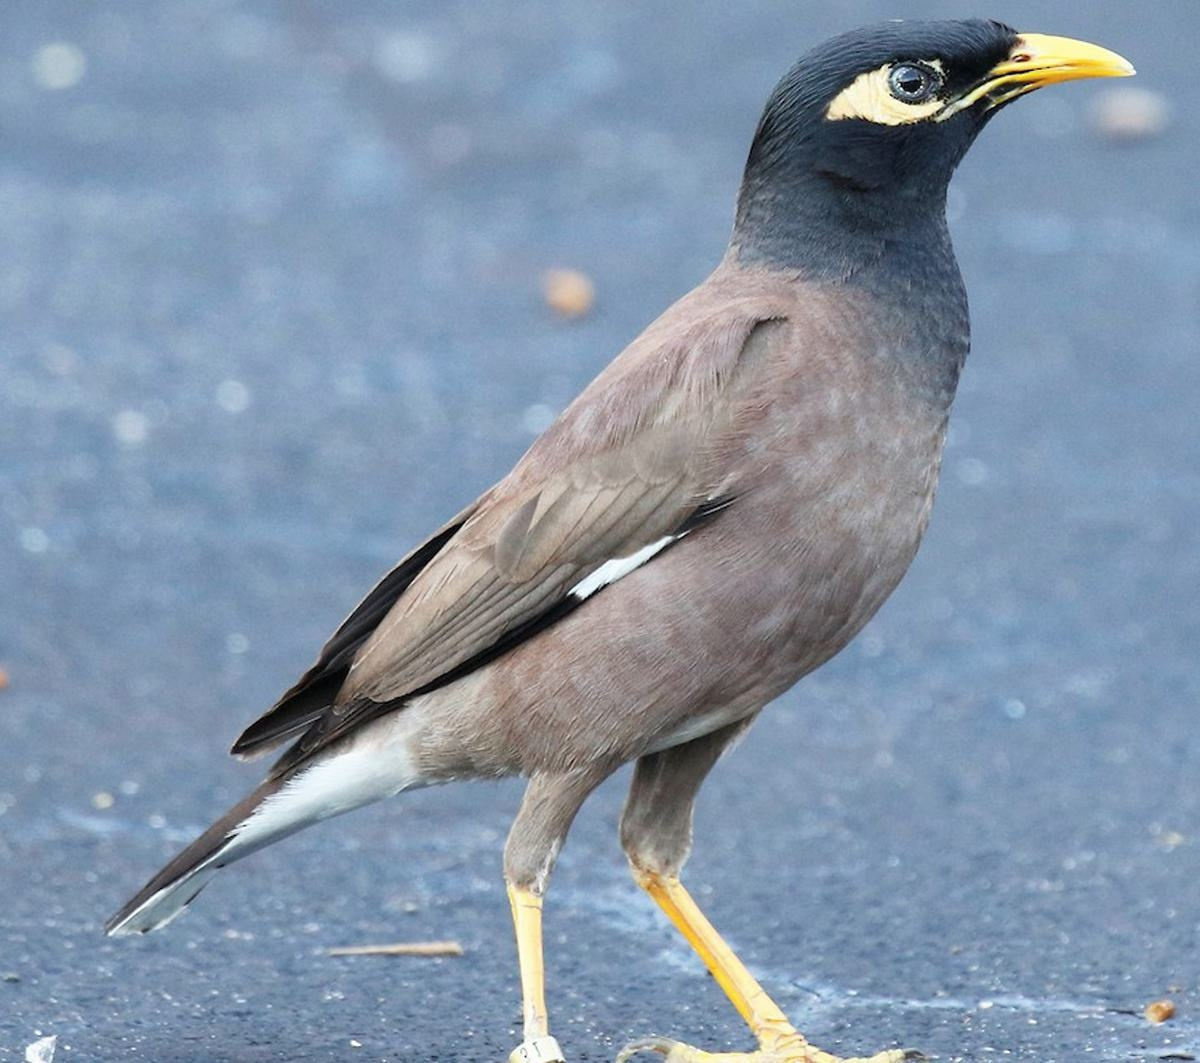myna: (272, 25, 1128, 1063)
